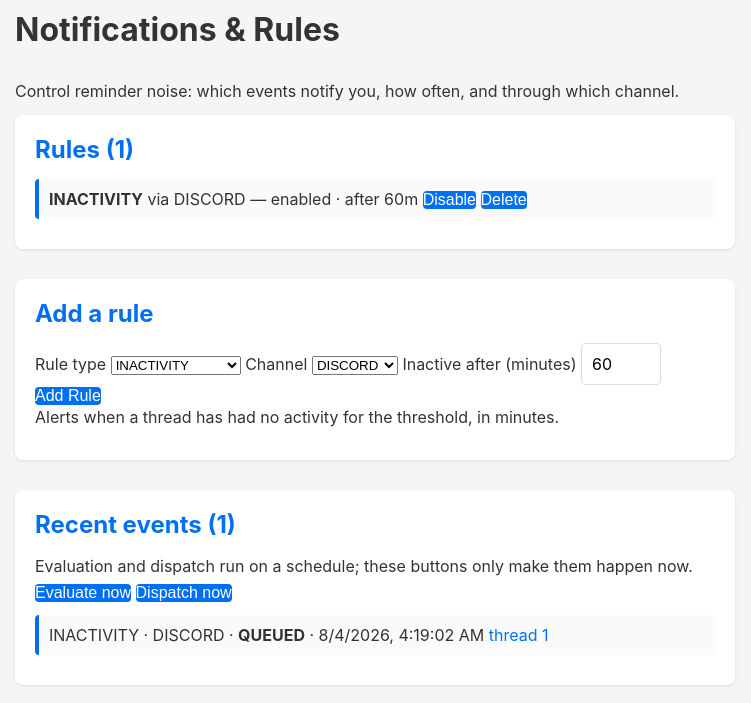
Test: notification settings › only asks for the fields the chosen rule type actually uses
Expected: the heading "Rules (1)" is shown, [35,135,134,164]
Expected: the number field labelled "Inactive after (minutes)" is shown, [581,343,661,385]
Select "DAILY_BRIEFING" in the dropdown labelled "Rule type". click: (176, 365)
box: [111,356,241,375]
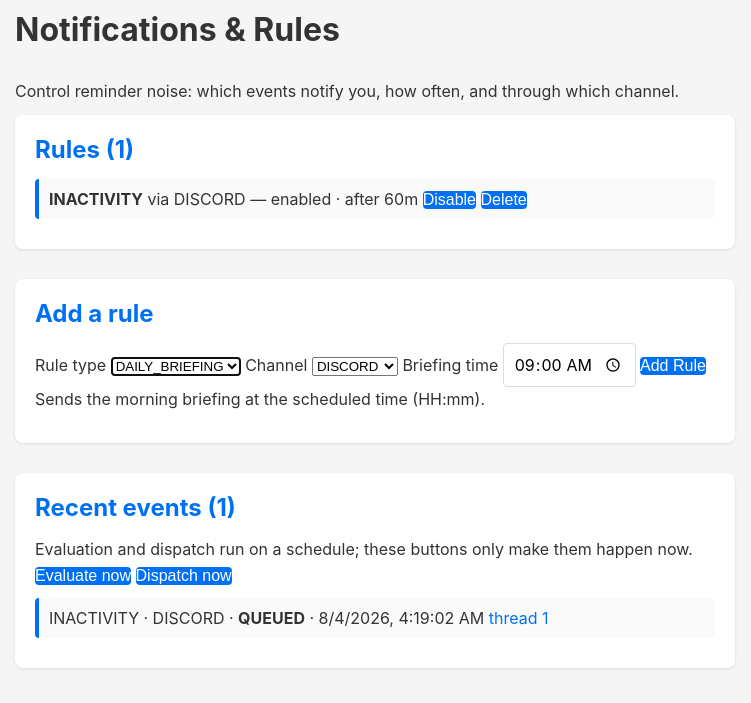
Result: the time field labelled "Briefing time" is shown at [503,343,636,387]
Result: the label labelled "Inactive after (minutes)" is gone
Note: COMPLETION needs neither.
Select "COMPLETION" in the dropdown labelled "Rule type". click: (176, 366)
box: [111,357,241,376]
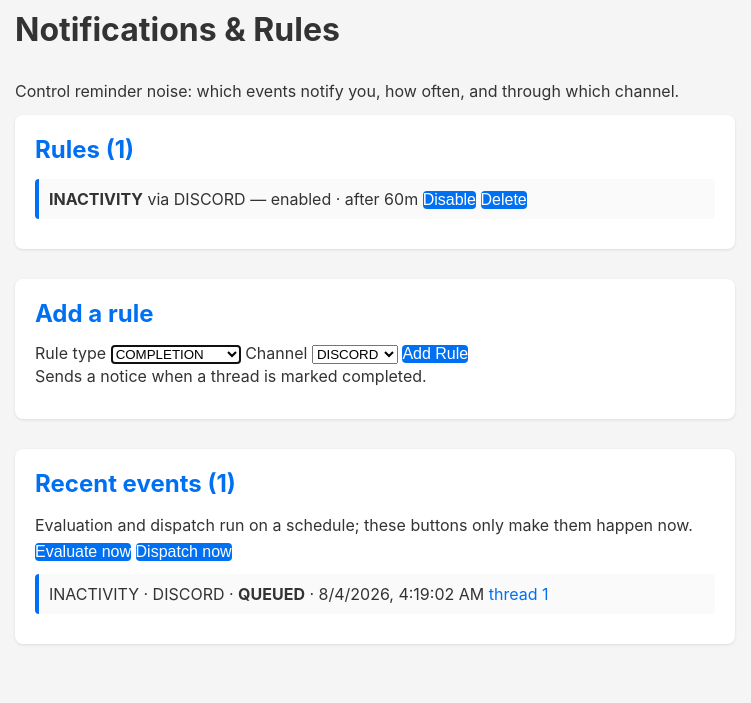
Expected: the label labelled "Inactive after (minutes)" is not shown
Result: the label labelled "Briefing time" is gone
